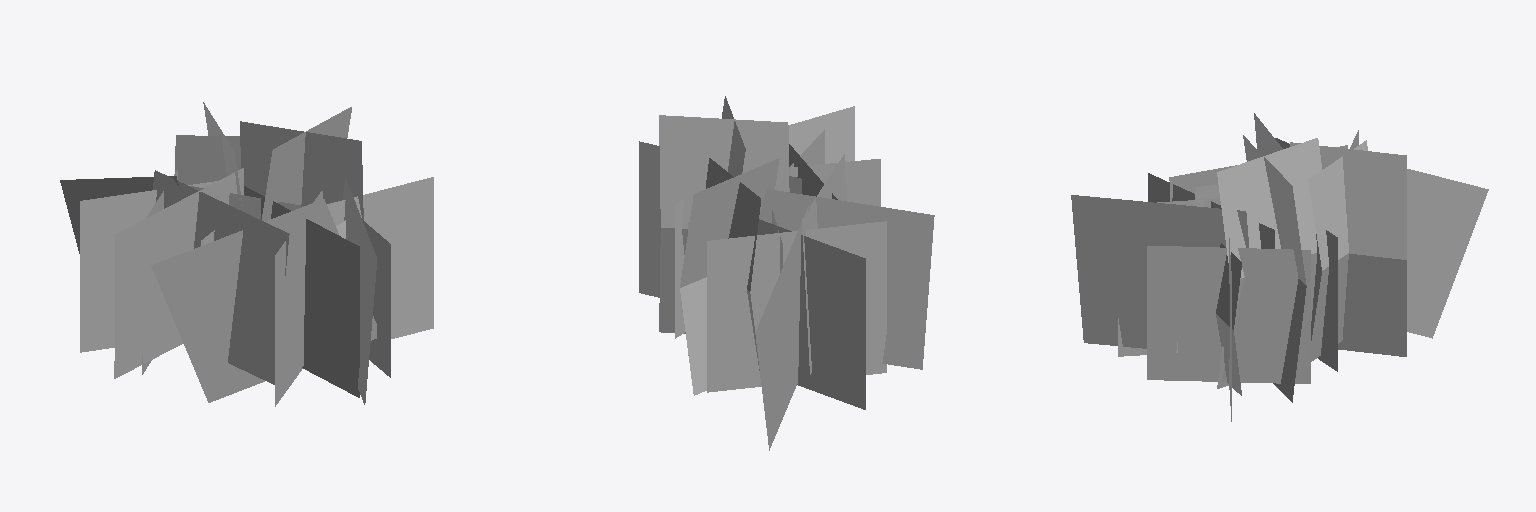
The model's file is grassWeed1.obj.
3 views of the same model, side by side, from view 1: azimuth 30°, elevation 25°; view 2: azimuth 150°, elevation 25°; view 3: azimuth 270°, elevation 25° (orthographic).
Parts seen in each view (by area): view 1: Plane.017_Plane.050; view 2: Plane.017_Plane.050; view 3: Plane.017_Plane.050.
Boxes of the visible parts, <box> form: Plane.017_Plane.050: <box>60,102,433,406</box>; Plane.017_Plane.050: <box>639,96,934,450</box>; Plane.017_Plane.050: <box>1071,113,1488,421</box>.
Bounding box in the file's own units: 3.81 × 2.85 × 4.49.